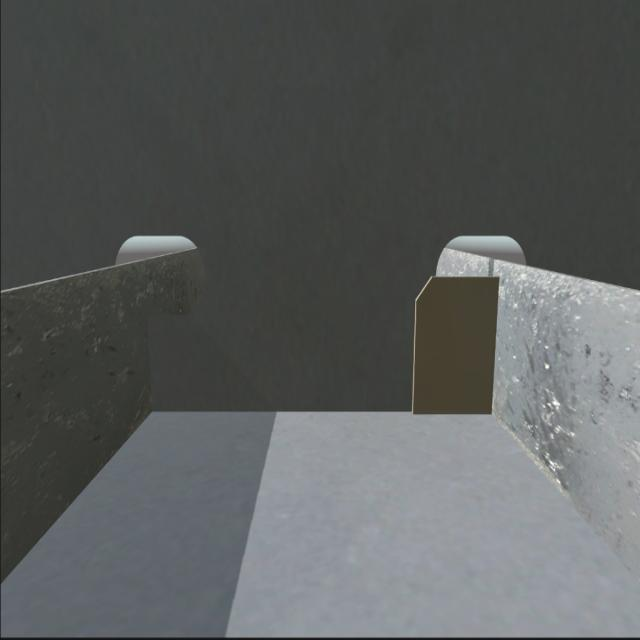fillet_yong_jeop_jang: (147, 399, 498, 423)
longi_yong_jeop_jang: (137, 303, 158, 406), (488, 272, 502, 424)
plate_CP03: (414, 272, 497, 415)
